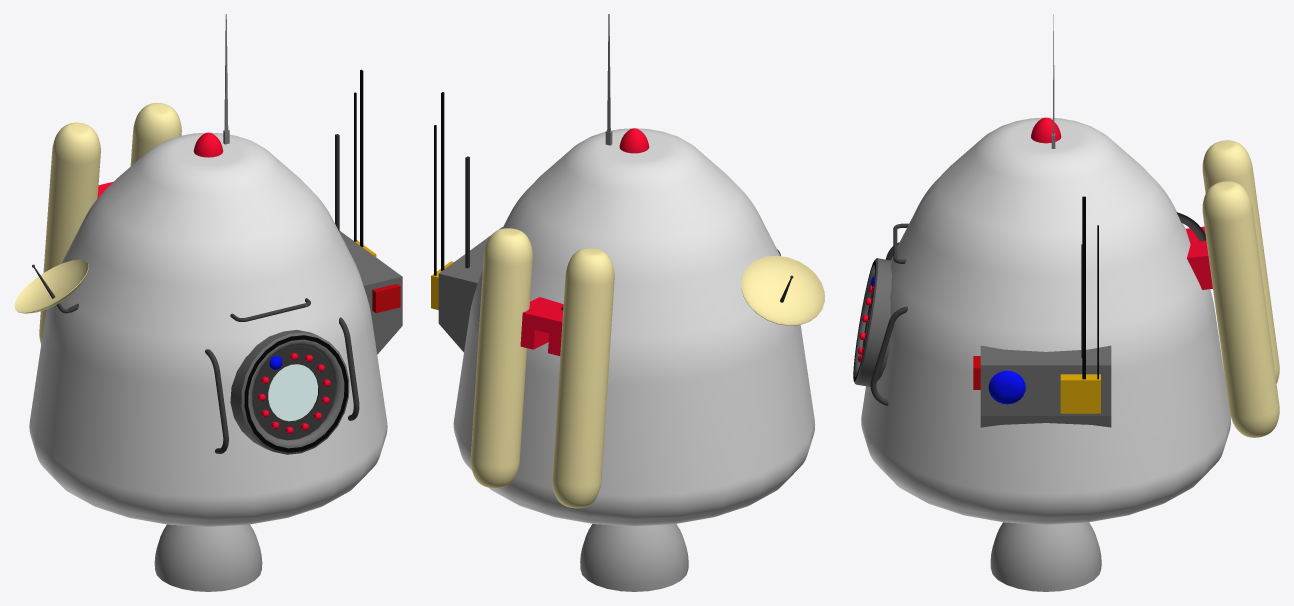
The picture shows the model from 3 angles, left to right: view 1: azimuth 30°, elevation 25°; view 2: azimuth 150°, elevation 25°; view 3: azimuth 270°, elevation 25°; orthographic projection. The views are drawn at different scales.
Parts seen in each view (by area): view 1: capsule; view 2: capsule; view 3: capsule.
Part boxes in pixels (box(x1,y1,x2,y2)): capsule: box(14, 14, 402, 591); capsule: box(431, 14, 824, 591); capsule: box(853, 14, 1279, 591).
Bounding box in the file's own units: 3.72 × 3.69 × 5.4.
